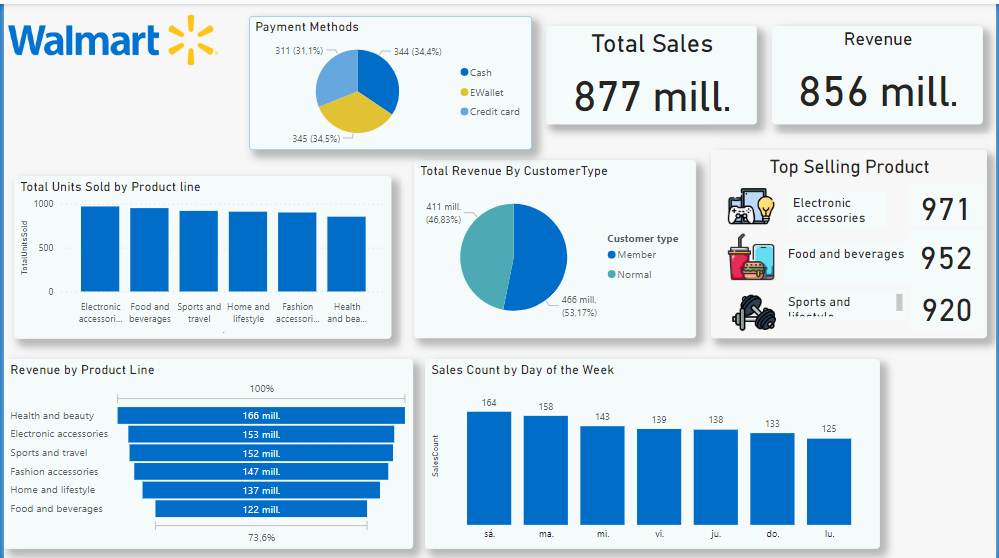

The page's visual inventory and layout, read from the dashboard file:
{"tool":"powerbi","page":{"name":"Página 1","canvas":[1280,720],"ordinal":0},"visuals":[{"type":"image","box":[0,0,281.1,91.8],"z":0},{"type":"columnChart","title":"Total Units Sold by Product line","fields":{"Y":["WalmartSalesData csv.TotalUnitsSold"],"Category":["WalmartSalesData csv.Product line"]},"box":[13.3,221.7,486.7,210],"z":1000},{"type":"funnel","title":"Revenue by Product Line","fields":{"Category":["WalmartSalesData csv.Product line"],"Y":["WalmartSalesData csv.TotalRevenueByProduct"]},"box":[0,458.3,528.3,245],"z":2000},{"type":"columnChart","title":"Sales Count by Day of the Week","fields":{"Y":["WalmartSalesData csv.SalesCount"],"Category":["WalmartSalesData csv.Day_of_the_week"]},"box":[543.3,458.3,586.7,245],"z":3000},{"type":"pieChart","title":"Total Revenue By CustomerType","fields":{"Y":["WalmartSalesData csv.TotalRevenueByCustomerType"],"Category":["WalmartSalesData csv.Customer type"]},"box":[528.6,201.4,364.3,230],"z":4000},{"type":"image","box":[964.6,187.9,97.3,80.5],"z":5000},{"type":"image","box":[968,268.4,82.2,63.7],"z":6000},{"type":"image","box":[964.6,345.6,88.9,73.8],"z":7000},{"type":"textbox","box":[912.6,187.9,355.6,243.3],"z":8000},{"type":"card","title":"Total Sales ","fields":{"Values":["Sum(WalmartSalesData csv.Total)"]},"box":[699,28.1,271.7,127.4],"z":9000},{"type":"card","title":"Total Units Sold by Product line","fields":{"Values":["WalmartSalesData csv.TotalUnitsSold"]},"box":[1167.6,233.2,95.6,52],"z":10000},{"type":"card","title":"Total Units Sold by Product line","fields":{"Values":["WalmartSalesData csv.TotalUnitsSold"]},"box":[1167.6,290.2,95.6,65.4],"z":11000},{"type":"card","title":"Total Units Sold by Product line","fields":{"Values":["WalmartSalesData csv.TotalUnitsSold"]},"box":[1167.6,355.6,95.6,65.4],"z":12000},{"type":"card","title":"Revenue","fields":{"Values":["WalmartSalesData csv.Revenue"]},"box":[991.4,28.1,271.7,127.4],"z":13000},{"type":"image","box":[929.4,290.2,70.5,72.1],"z":14000},{"type":"image","box":[929.4,221.4,70.5,77.2],"z":15000},{"type":"image","box":[932.7,360.7,70.5,73.8],"z":16000},{"type":"textbox","box":[1013.3,241.6,127.5,48.7],"z":17000},{"type":"textbox","box":[1006.6,307,166.1,53.7],"z":18000},{"type":"textbox","box":[1006.6,369.1,157.7,38.6],"z":18001},{"type":"pieChart","title":"Payment Methods","fields":{"Y":["WalmartSalesData csv.CountRows_cash","WalmartSalesData csv.CountRows_eWallet","WalmartSalesData csv.CountRows_credit card"]},"box":[316.7,15,365,173.3],"z":18002}]}

Visuals, with their boxes in screenshot pixels (x1, y1, x2, y2), scaled from the page's 1280x720 canvas onto the 999x558 screenshot:
image: {"left": 0, "top": 0, "right": 219, "bottom": 71}
"Total Units Sold by Product line" columnChart: {"left": 10, "top": 172, "right": 390, "bottom": 335}
"Revenue by Product Line" funnel: {"left": 0, "top": 355, "right": 412, "bottom": 545}
"Sales Count by Day of the Week" columnChart: {"left": 424, "top": 355, "right": 882, "bottom": 545}
"Total Revenue By CustomerType" pieChart: {"left": 413, "top": 156, "right": 697, "bottom": 334}
image: {"left": 753, "top": 146, "right": 829, "bottom": 208}
image: {"left": 755, "top": 208, "right": 820, "bottom": 257}
image: {"left": 753, "top": 268, "right": 822, "bottom": 325}
textbox: {"left": 712, "top": 146, "right": 990, "bottom": 334}
"Total Sales " card: {"left": 546, "top": 22, "right": 758, "bottom": 121}
"Total Units Sold by Product line" card: {"left": 911, "top": 181, "right": 986, "bottom": 221}
"Total Units Sold by Product line" card: {"left": 911, "top": 225, "right": 986, "bottom": 276}
"Total Units Sold by Product line" card: {"left": 911, "top": 276, "right": 986, "bottom": 326}
"Revenue" card: {"left": 774, "top": 22, "right": 986, "bottom": 121}
image: {"left": 725, "top": 225, "right": 780, "bottom": 281}
image: {"left": 725, "top": 172, "right": 780, "bottom": 231}
image: {"left": 728, "top": 280, "right": 783, "bottom": 337}
textbox: {"left": 791, "top": 187, "right": 890, "bottom": 225}
textbox: {"left": 786, "top": 238, "right": 915, "bottom": 280}
textbox: {"left": 786, "top": 286, "right": 909, "bottom": 316}
"Payment Methods" pieChart: {"left": 247, "top": 12, "right": 532, "bottom": 146}
